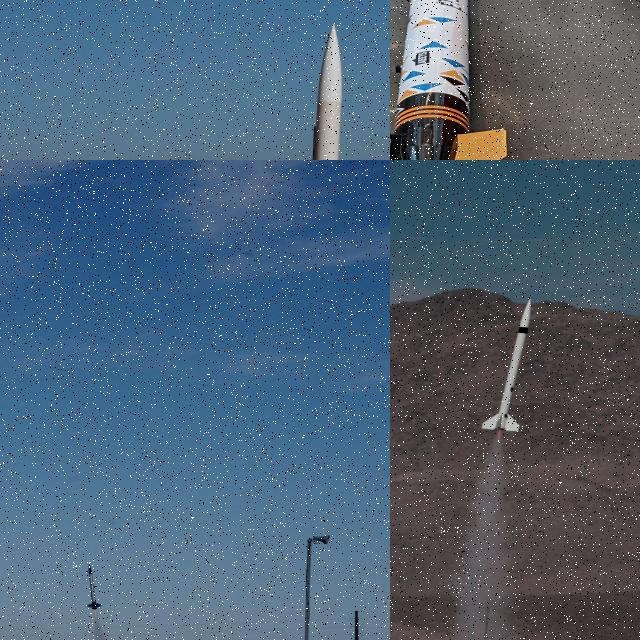Rocket: (390, 0, 508, 160), (275, 22, 357, 160), (482, 298, 532, 433), (86, 563, 102, 610)
